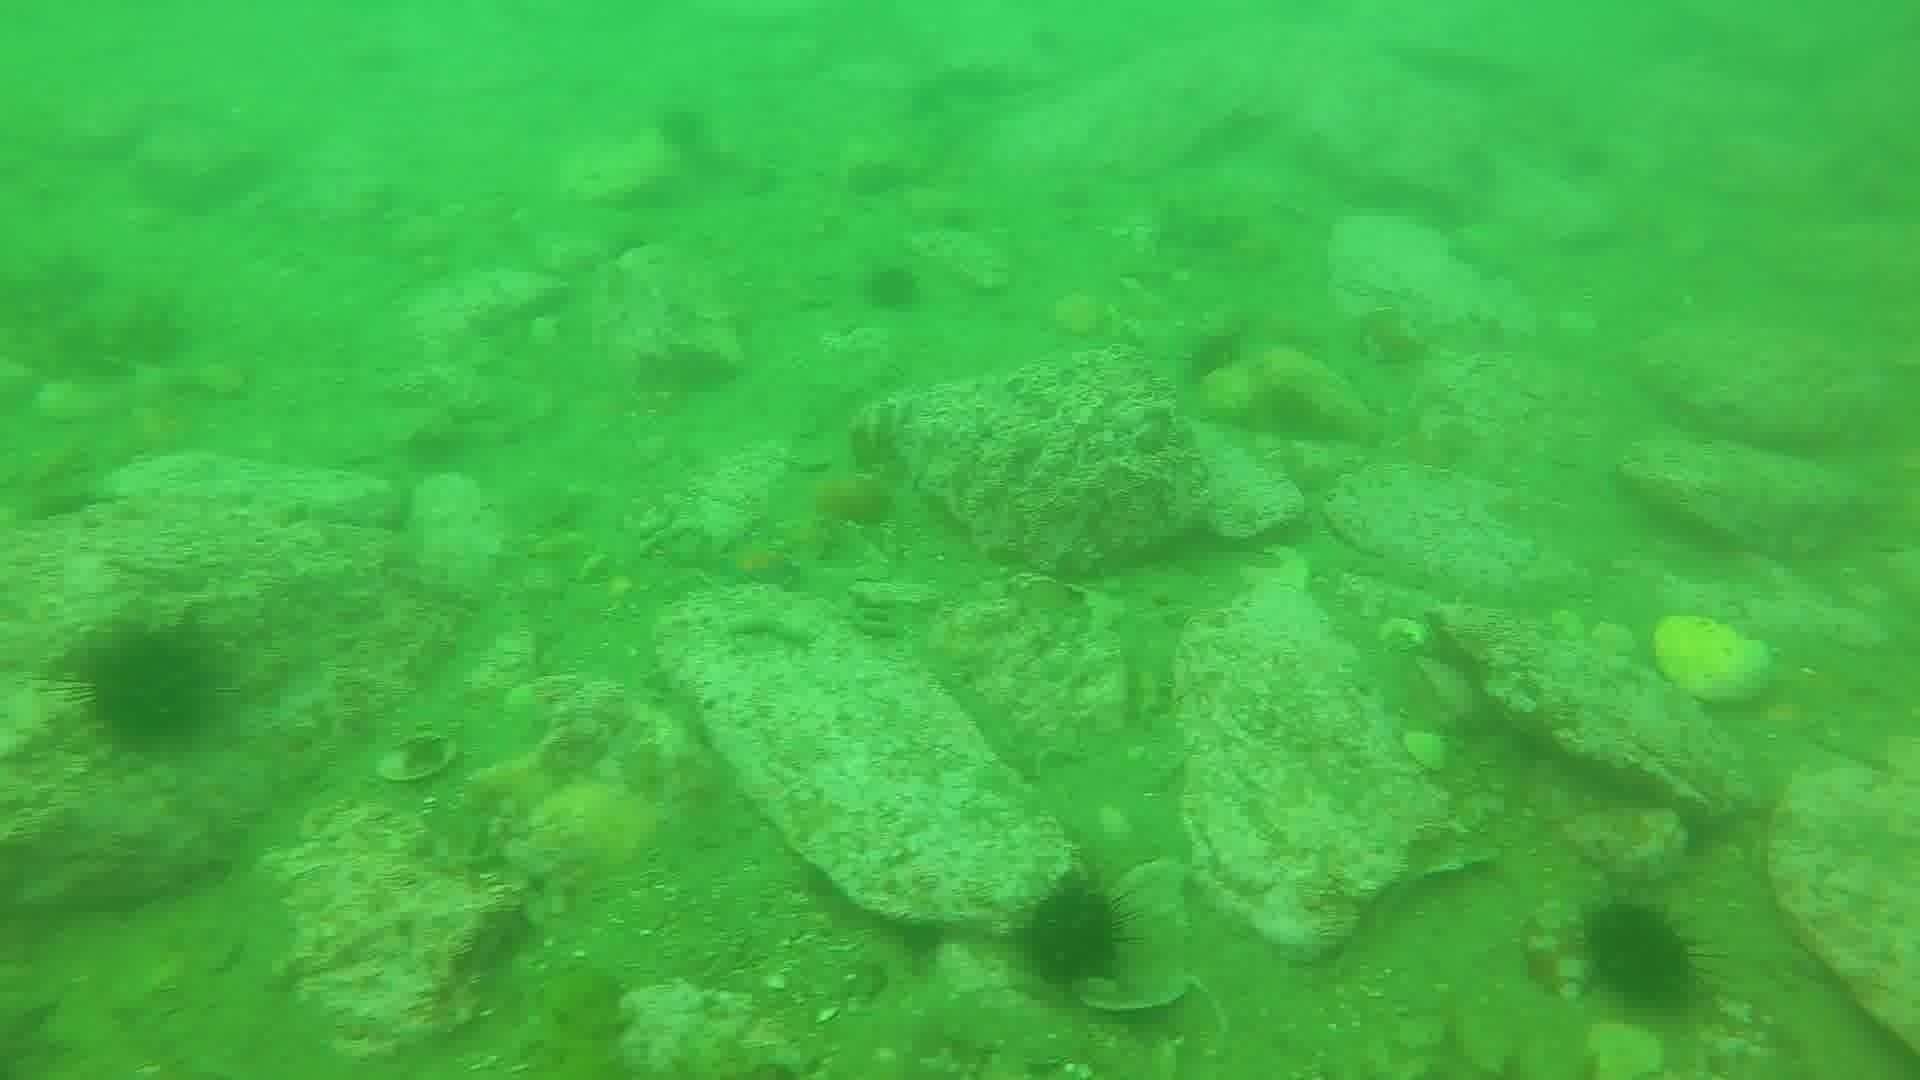echinus: (63, 616, 222, 758), (1576, 895, 1706, 1017), (1011, 872, 1135, 994), (1180, 324, 1249, 386), (858, 258, 927, 316), (651, 100, 713, 158)
holothurian: (512, 959, 640, 1076)
starfish: (708, 531, 803, 593)
